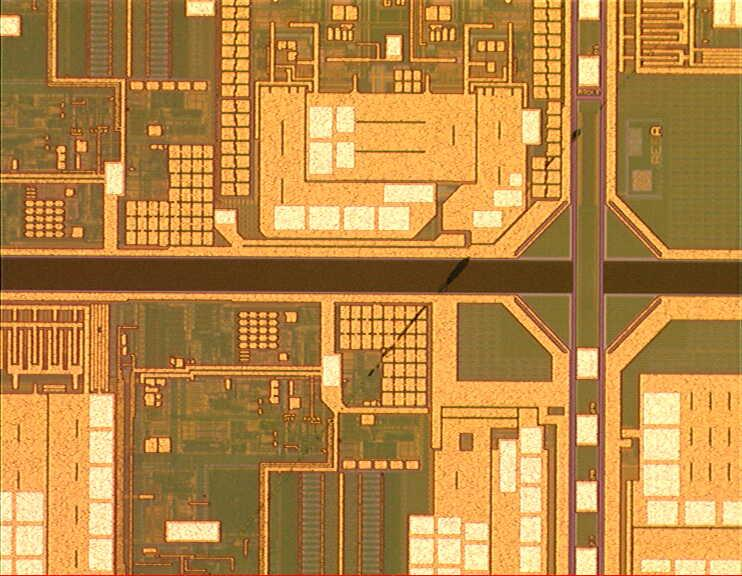SCRATCH: (200, 1, 713, 576)
